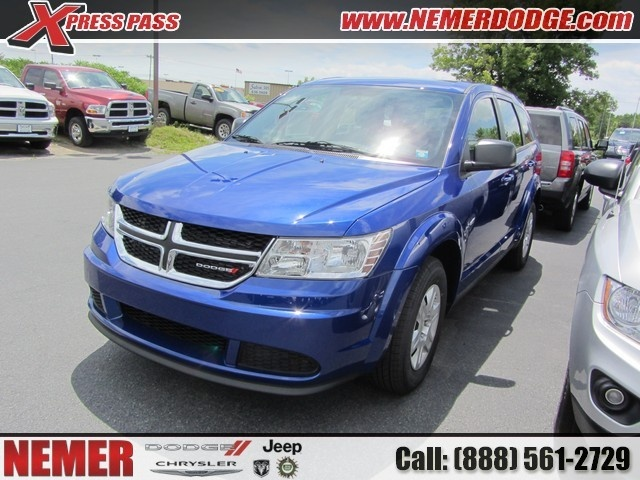Xe_hoi: (81, 75, 543, 395)
